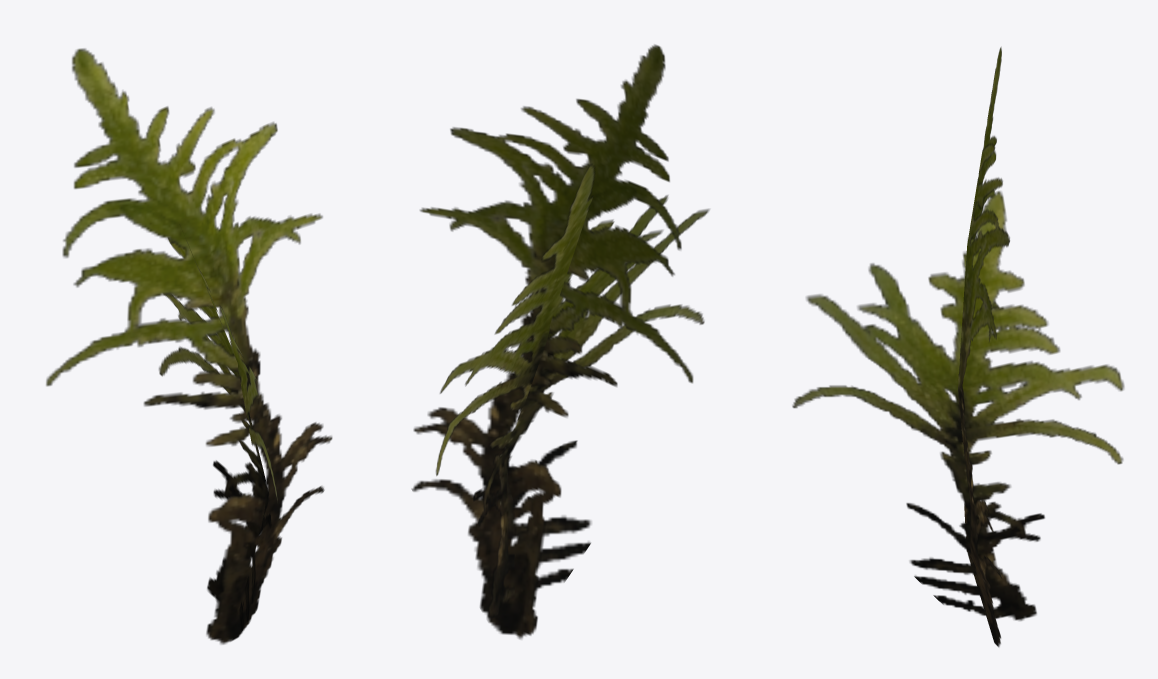
Rendered from moss_02.glb.
3 renders of one model, left to right at view 1: azimuth 30°, elevation 25°; view 2: azimuth 150°, elevation 25°; view 3: azimuth 270°, elevation 25°, orthographic. The views are drawn at different scales.
Parts seen in each view (by area): view 1: IslandMoss02; view 2: IslandMoss02; view 3: IslandMoss02.
Part boxes in pixels (x1,y1,x2,y2): IslandMoss02: (46,48,332,644); IslandMoss02: (411,44,709,639); IslandMoss02: (792,47,1124,647).
Size of the model in its own units: 0.0112 by 0.0216 by 0.0127.
Materials: 1 (1 with a texture image).
